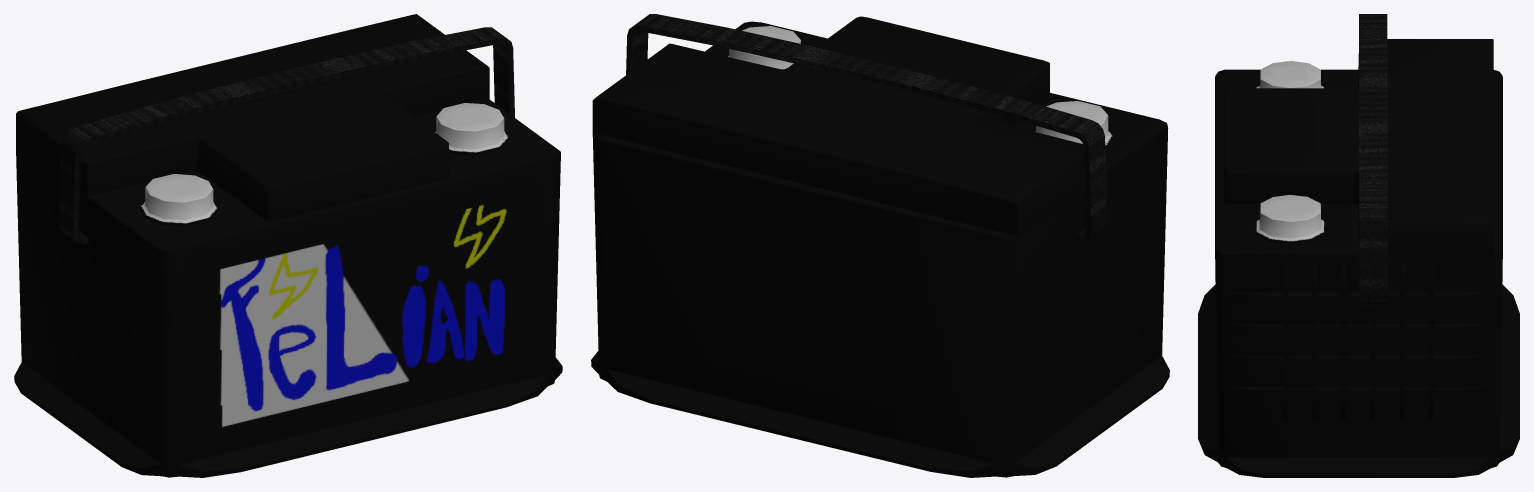
The model's file is bateria.fbx.
3 views of the same model, side by side, from view 1: azimuth 30°, elevation 25°; view 2: azimuth 150°, elevation 25°; view 3: azimuth 270°, elevation 25° (orthographic). The views are drawn at different scales.
Parts seen in each view (by area): view 1: bateria; view 2: bateria; view 3: bateria.
Boxes of the visible parts, x1=… form: bateria: x1=14, y1=14, x2=562, y2=477; bateria: x1=591, y1=14, x2=1169, y2=477; bateria: x1=1198, y1=14, x2=1519, y2=477.
Size of the model in its own units: 25.15 by 15.84 by 16.75.
Materials: 1 (1 with a texture image).
